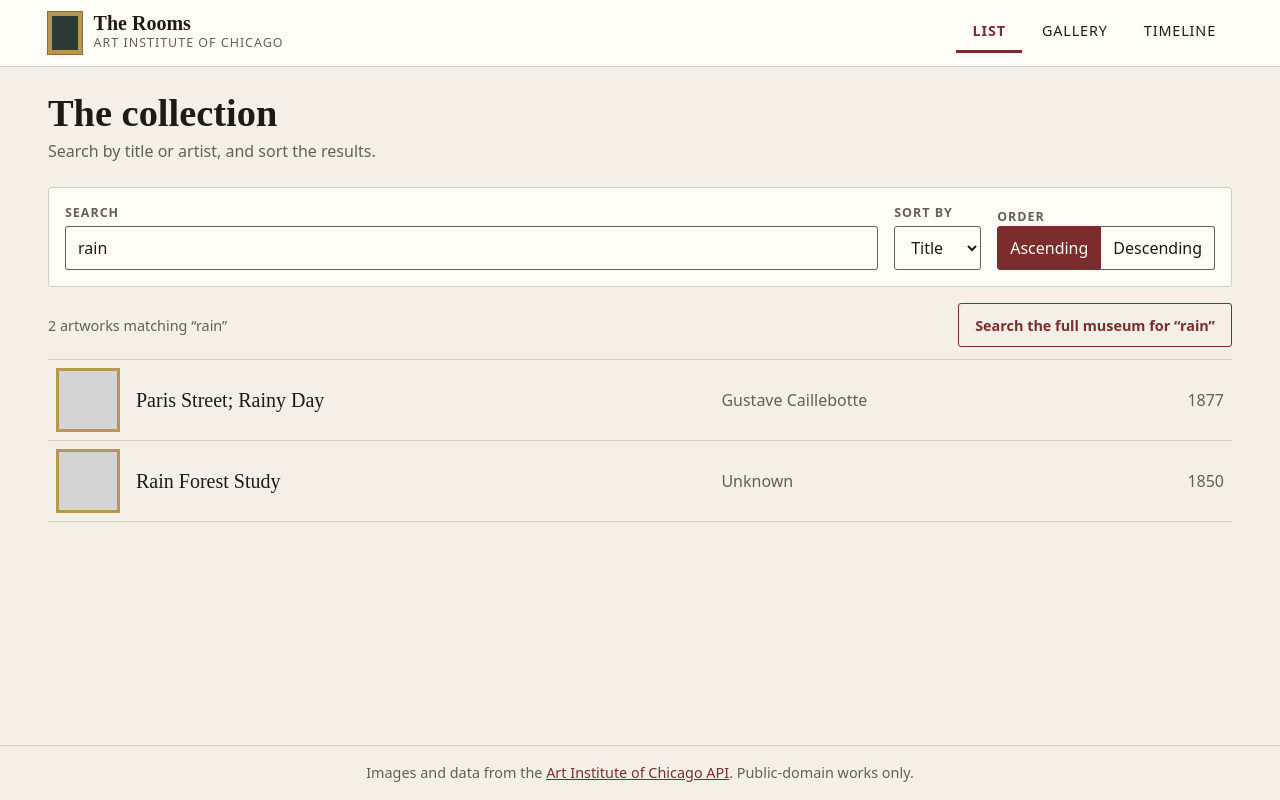
ListView › shows an error and keeps the rows when the full-museum search fails (AE5)
Expected: the text "2 artworks matching “rain”" is shown, top-left (48, 315), bottom-right (227, 336)
Click the button "Search the full museum for “rain”" at (1095, 326), box top-left (958, 304), bottom-right (1232, 348)
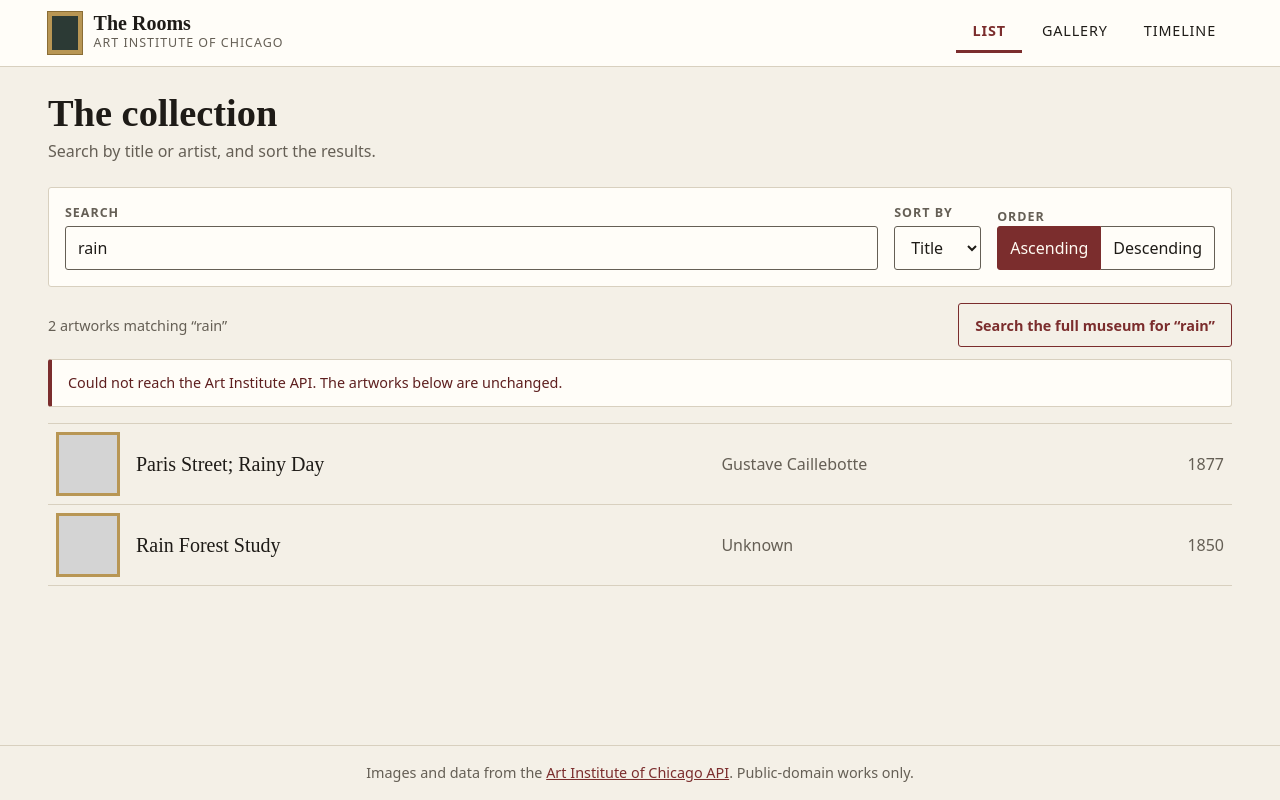
Now the message reads "Could not reach the Art Institute API. The artworks below are unchanged.", box top-left (48, 360), bottom-right (1232, 407)
